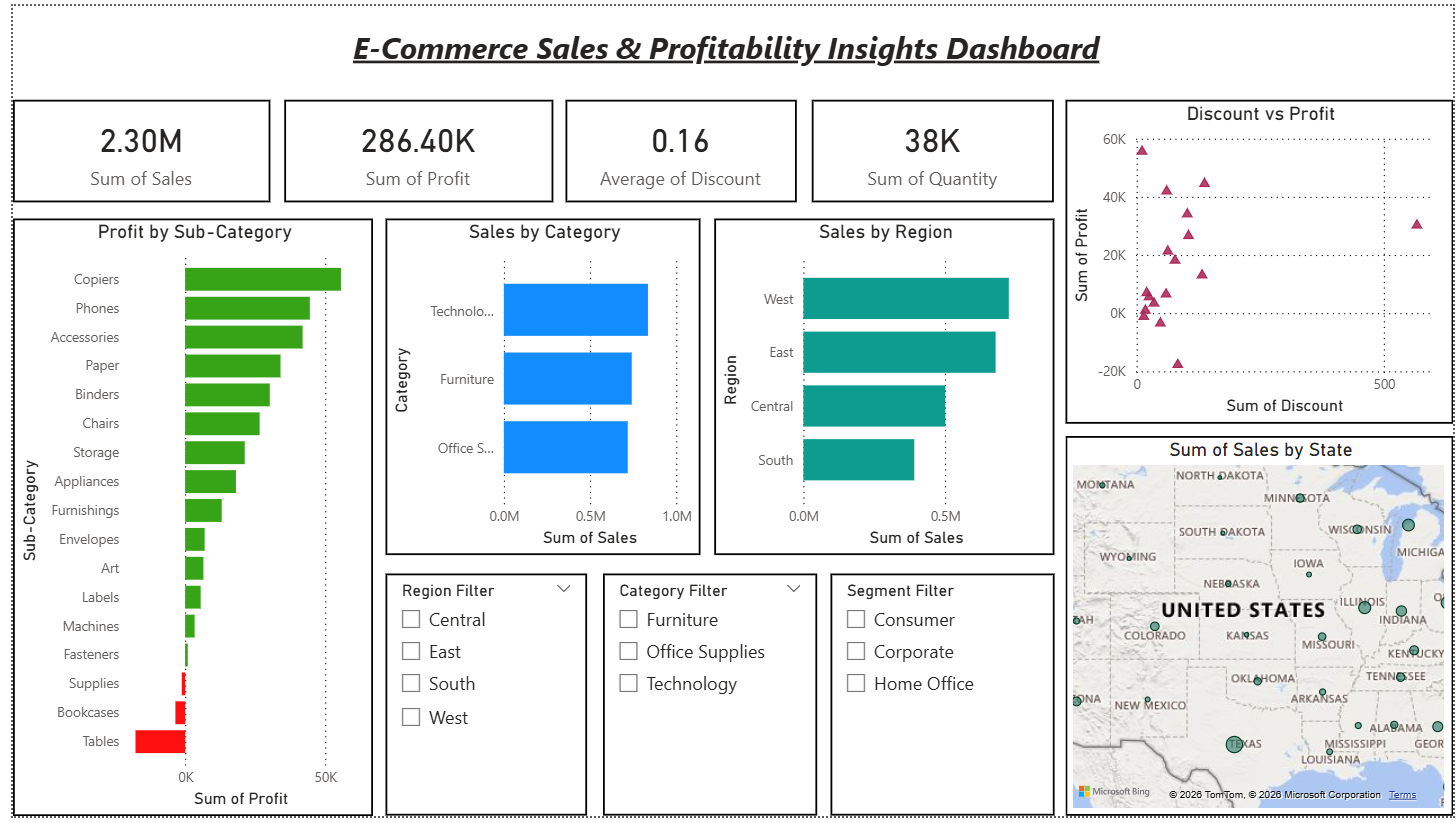

This screenshot's page, from the dashboard's own definition file:
{"tool":"powerbi","page":{"name":"Page 1","canvas":[1280,720],"ordinal":0},"visuals":[{"type":"card","title":"Total Sales","fields":{"Values":["Sum(cleaned_sales_data.Sales)"]},"box":[0,83.3,228.9,91.1],"z":0},{"type":"clusteredBarChart","title":"Sales by Category","fields":{"Category":["cleaned_sales_data.Category"],"Y":["Sum(cleaned_sales_data.Sales)"]},"box":[331.1,188.9,280,298.9],"z":1000},{"type":"card","title":"Total Profit","fields":{"Values":["Sum(cleaned_sales_data.Profit)"]},"box":[241.1,83.3,238.9,91.1],"z":2000},{"type":"card","title":"Total Quantity Sold","fields":{"Values":["Sum(cleaned_sales_data.Quantity)"]},"box":[710,83.3,215.6,91.1],"z":3000},{"type":"barChart","title":"Profit by Sub-Category","fields":{"Y":["Sum(cleaned_sales_data.Profit)"],"Category":["cleaned_sales_data.Sub-Category"]},"box":[0,188.9,320,531.1],"z":4000},{"type":"barChart","title":"Sales by Region","fields":{"Category":["cleaned_sales_data.Region"],"Y":["Sum(cleaned_sales_data.Sales)"]},"box":[623.3,188.9,302.2,298.9],"z":5000},{"type":"scatterChart","title":"Discount vs Profit","fields":{"X":["Sum(cleaned_sales_data.Discount)"],"Y":["Sum(cleaned_sales_data.Profit)"],"Category":["cleaned_sales_data.Sub-Category"]},"box":[935.6,83.3,344.4,287.8],"z":6000},{"type":"slicer","fields":{"Values":["cleaned_sales_data.Region"]},"box":[331.1,504.4,178.9,215.6],"z":7000},{"type":"slicer","fields":{"Values":["cleaned_sales_data.Category"]},"box":[524.4,504.4,190,215.6],"z":8000},{"type":"slicer","fields":{"Values":["cleaned_sales_data.Segment"]},"box":[726.7,504.4,198.9,215.6],"z":9000},{"type":"map","fields":{"Category":["cleaned_sales_data.State"],"Size":["Sum(cleaned_sales_data.Sales)"]},"box":[935.6,382.2,344.4,337.8],"z":10000},{"type":"textbox","box":[0,13.3,1267.8,58.9],"z":11000},{"type":"card","title":"Average Discount","fields":{"Values":["Avg(cleaned_sales_data.Discount)"]},"box":[491.1,83.3,205.6,91.1],"z":12000}]}

Visuals, with their boxes in screenshot pixels (x1, y1, x2, y2), scaled from the page's 1280x720 canvas onto the 1456x822 screenshot:
"Total Sales" card: region(0, 95, 260, 199)
"Sales by Category" clusteredBarChart: region(377, 216, 695, 557)
"Total Profit" card: region(274, 95, 546, 199)
"Total Quantity Sold" card: region(808, 95, 1053, 199)
"Profit by Sub-Category" barChart: region(0, 216, 364, 821)
"Sales by Region" barChart: region(709, 216, 1053, 557)
"Discount vs Profit" scatterChart: region(1064, 95, 1455, 424)
slicer - cleaned_sales_data.Region: region(377, 576, 580, 821)
slicer - cleaned_sales_data.Category: region(597, 576, 813, 821)
slicer - cleaned_sales_data.Segment: region(827, 576, 1053, 821)
map - cleaned_sales_data.State x Sum(cleaned_sales_data.Sales): region(1064, 436, 1455, 821)
textbox: region(0, 15, 1442, 82)
"Average Discount" card: region(559, 95, 792, 199)
